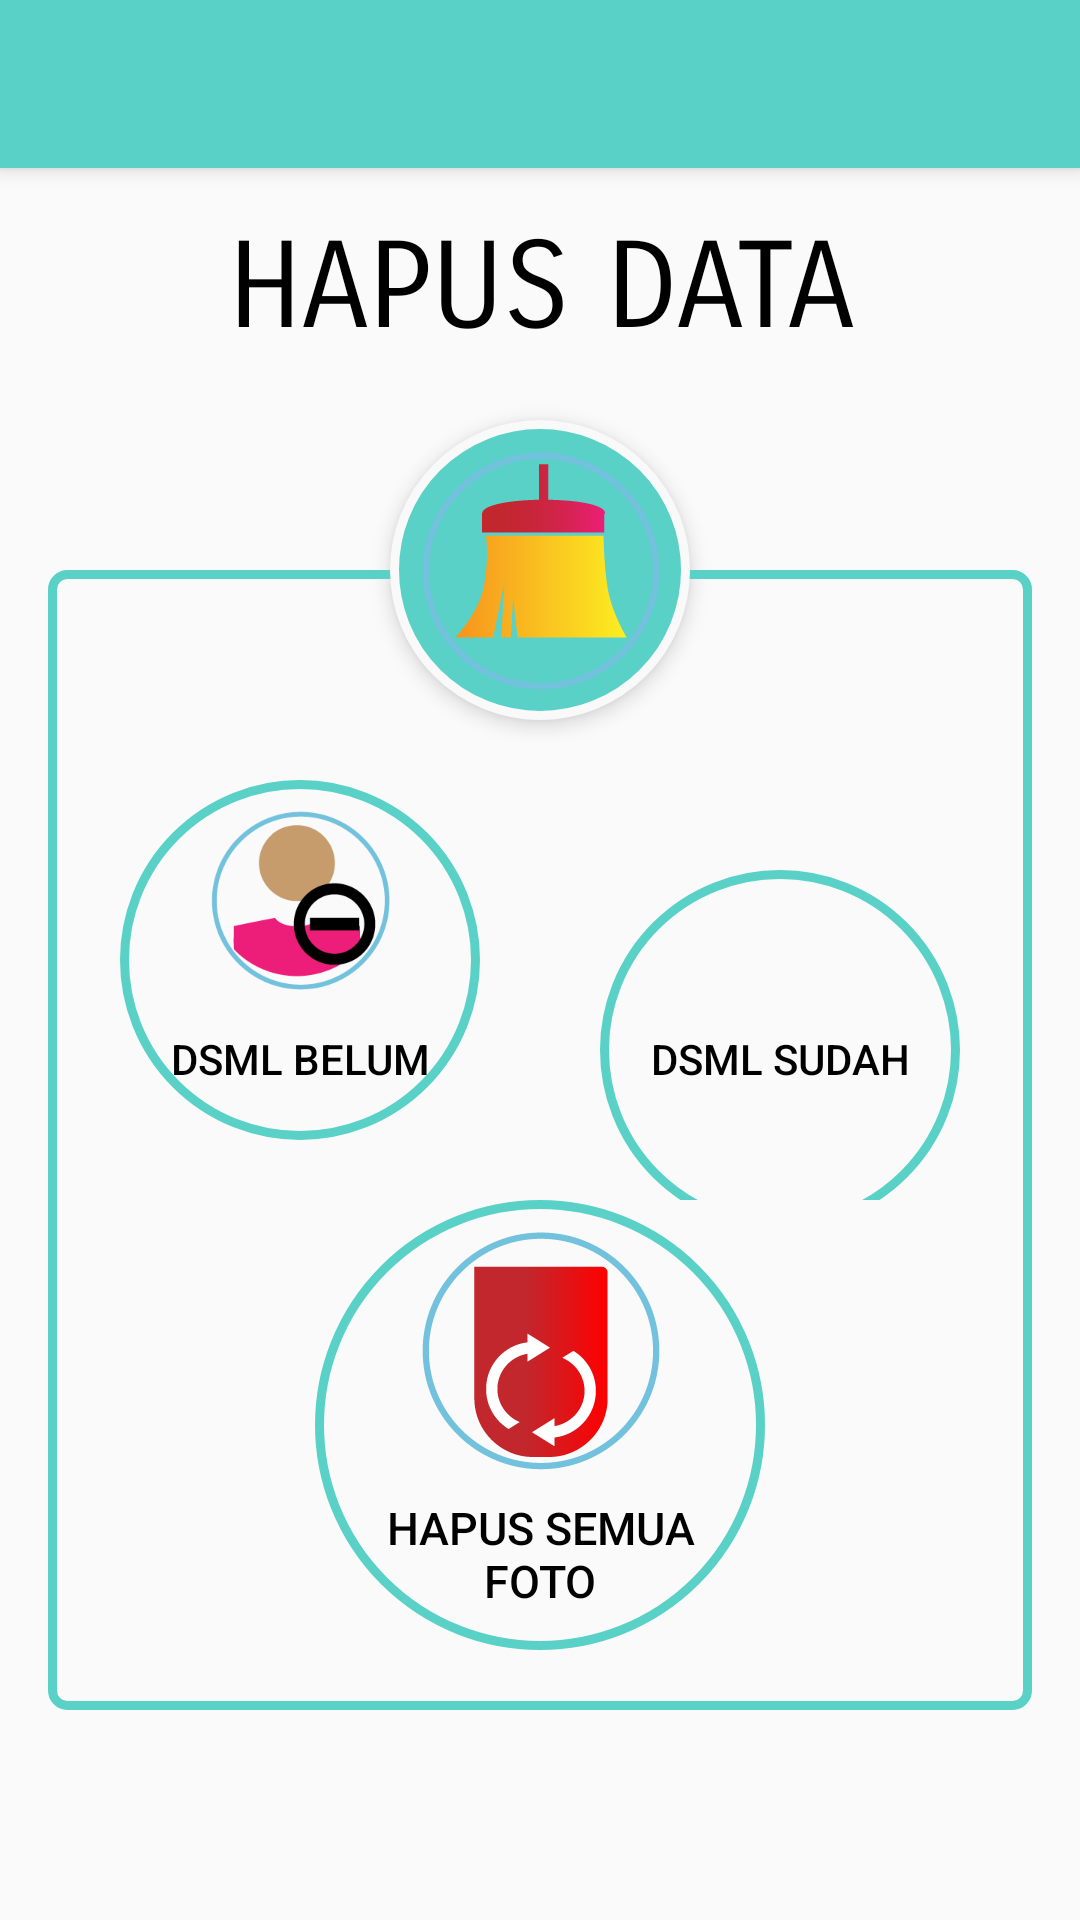

Where to tap for icons on this 1080w x 1920h app screen, as [x,y]:
clean db: [540,574]
